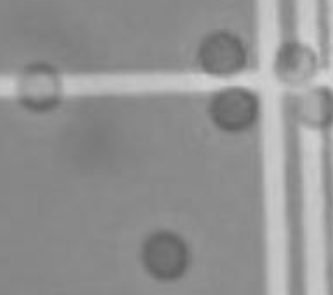cell: (8, 54, 69, 119), (134, 223, 194, 286), (205, 81, 262, 137), (194, 27, 249, 79), (268, 36, 318, 88), (285, 82, 333, 134)
